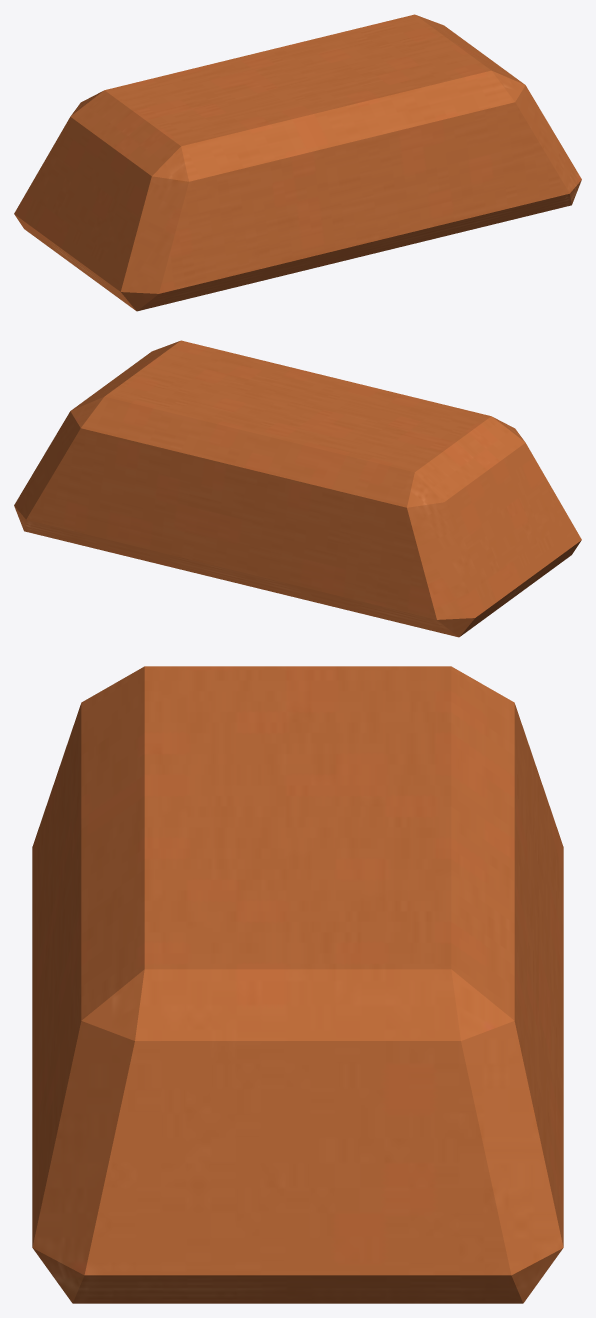
File: res_copper_ingot_low.glb
3 renders of one model, top to bottom at view 1: azimuth 30°, elevation 25°; view 2: azimuth 150°, elevation 25°; view 3: azimuth 270°, elevation 25°, orthographic. The views are drawn at different scales.
Visible parts, largest first — view 1: res_copper_ingot_low; view 2: res_copper_ingot_low; view 3: res_copper_ingot_low.
Part boxes in pixels (left/top/right/bottom): res_copper_ingot_low: left=14, top=14, right=581, bottom=311; res_copper_ingot_low: left=14, top=340, right=581, bottom=637; res_copper_ingot_low: left=32, top=666, right=563, bottom=1303.
Size of the model in its own units: 0.3 by 0.085 by 0.1496.
Materials: 1 (1 with a texture image).
